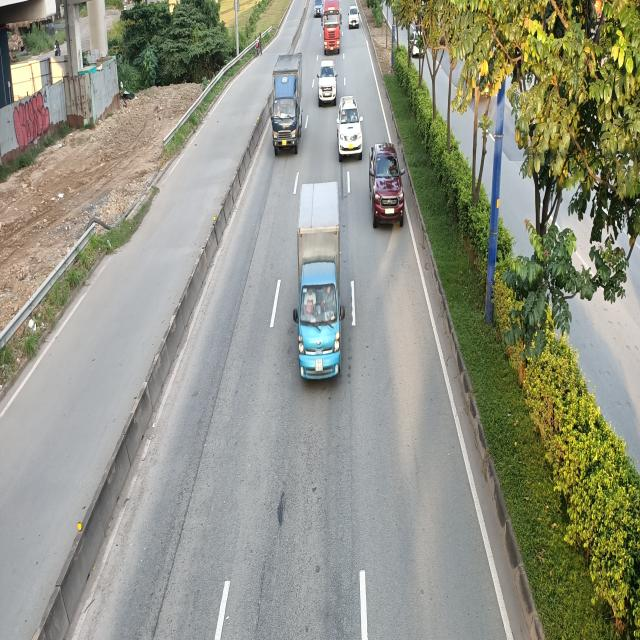car: (366, 143, 403, 230), (336, 97, 364, 157), (316, 60, 337, 104)
container: (322, 0, 342, 55)
truck: (296, 182, 348, 384), (268, 51, 302, 153)
